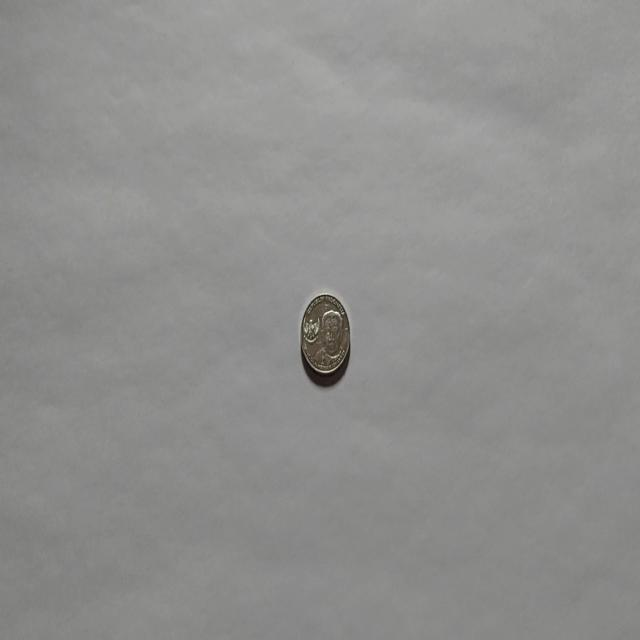seratus rupiah: (300, 292, 350, 378)
